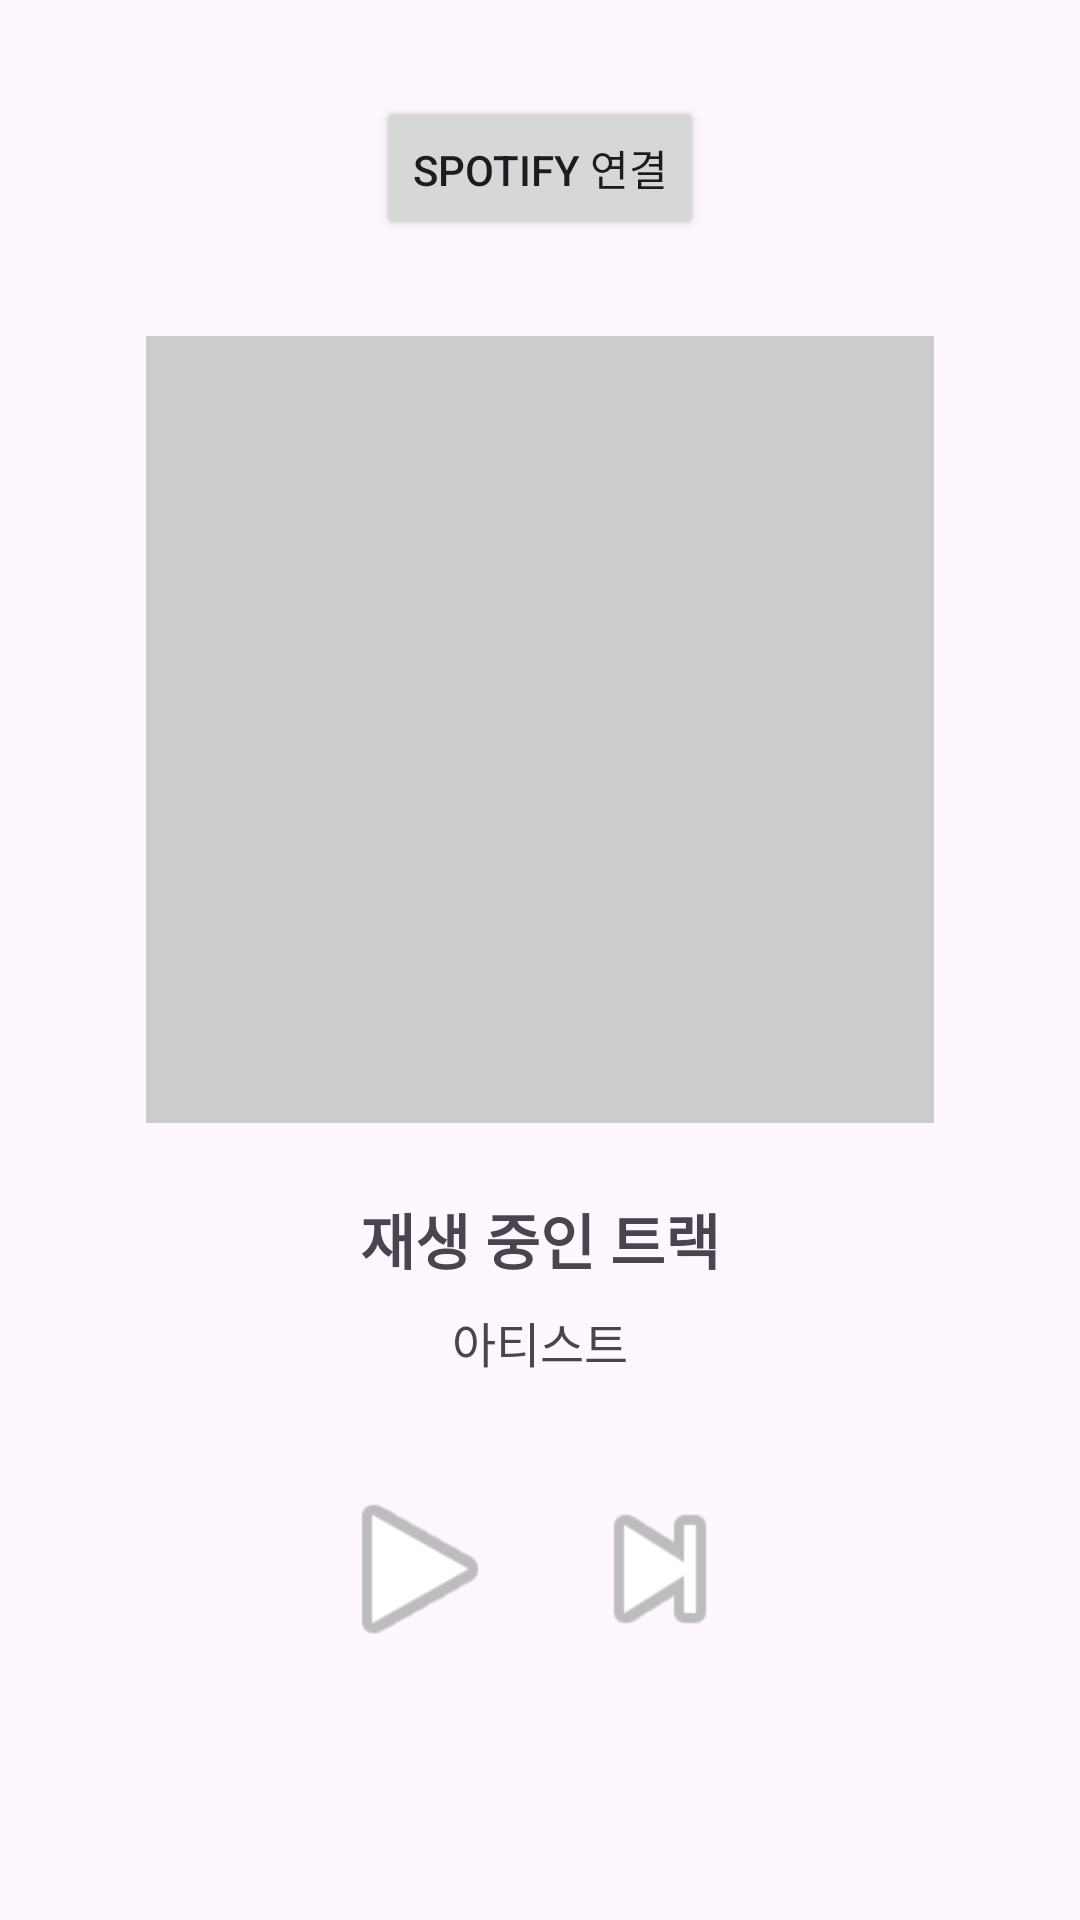

Named icons in this screenshot (1080 x 1920) and their centers, (x,y):
next: (660,1569)
play: (420,1569)
